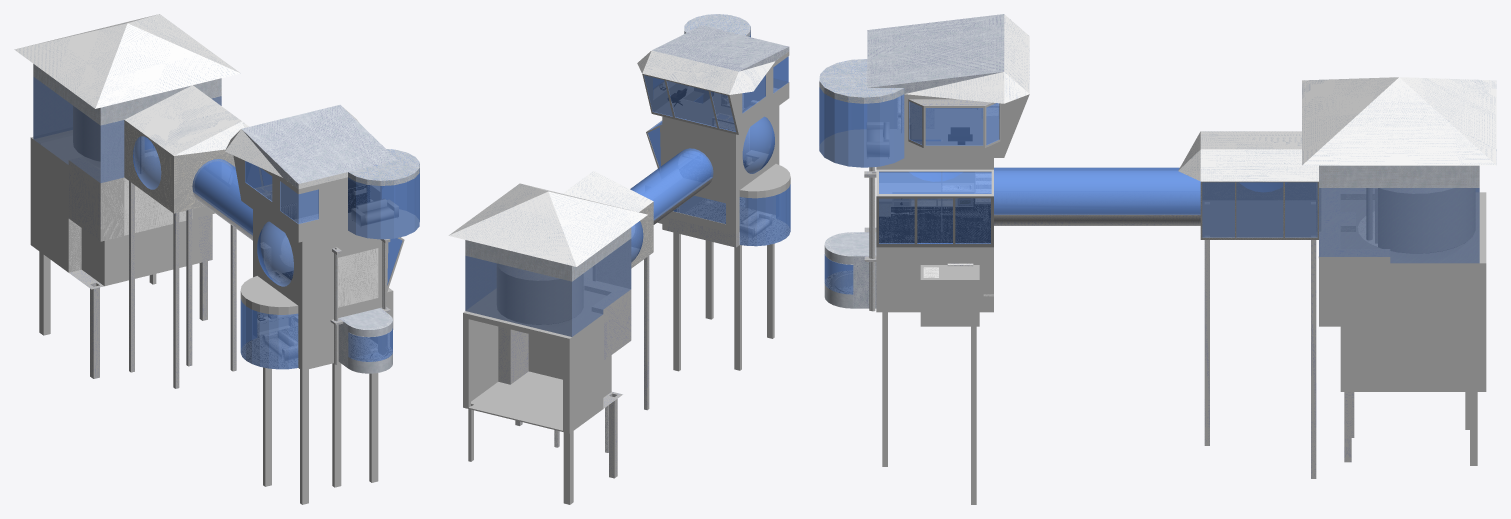
3 renders of one model, left to right at view 1: azimuth 30°, elevation 25°; view 2: azimuth 150°, elevation 25°; view 3: azimuth 270°, elevation 25°, orthographic. The views are drawn at different scales.
Visible parts, largest first — view 1: SketchUp (×45), group_0; view 2: SketchUp (×42), group_0 (×2); view 3: SketchUp (×39), group_0.
Boxes of the visible parts, left/top/right/bottom form: SketchUp (×45): left=14, top=14, right=419, bottom=504; group_0: left=73, top=106, right=100, bottom=160; SketchUp (×42): left=448, top=14, right=790, bottom=504; group_0 (×2): left=497, top=264, right=583, bottom=324; SketchUp (×39): left=819, top=14, right=1496, bottom=504; group_0: left=1378, top=188, right=1475, bottom=252.
Size of the model in its own units: 318 by 1050 by 754.
